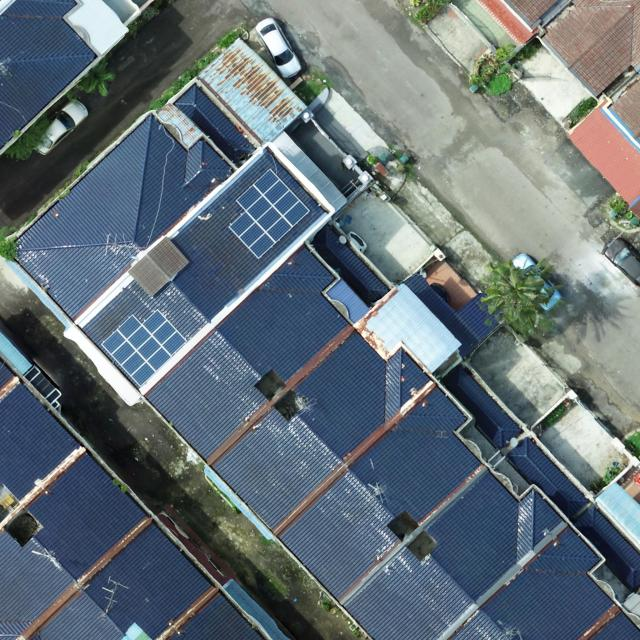Tree: (480, 258, 564, 342), (3, 112, 49, 162), (77, 54, 117, 98)
